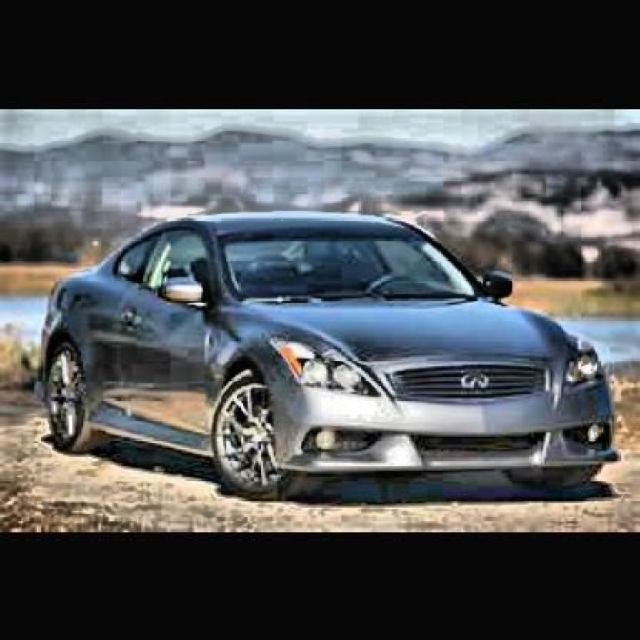black: (54, 194, 640, 489)
